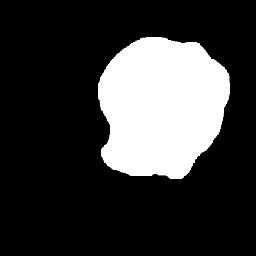mass: (109, 40, 226, 171)
